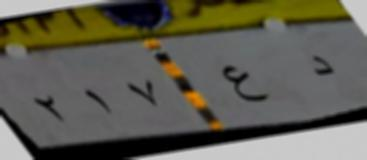1: (80, 82, 114, 117)
2: (35, 87, 67, 130)
7: (123, 75, 168, 114)
ain: (218, 60, 273, 112)
daal: (304, 43, 339, 88)
